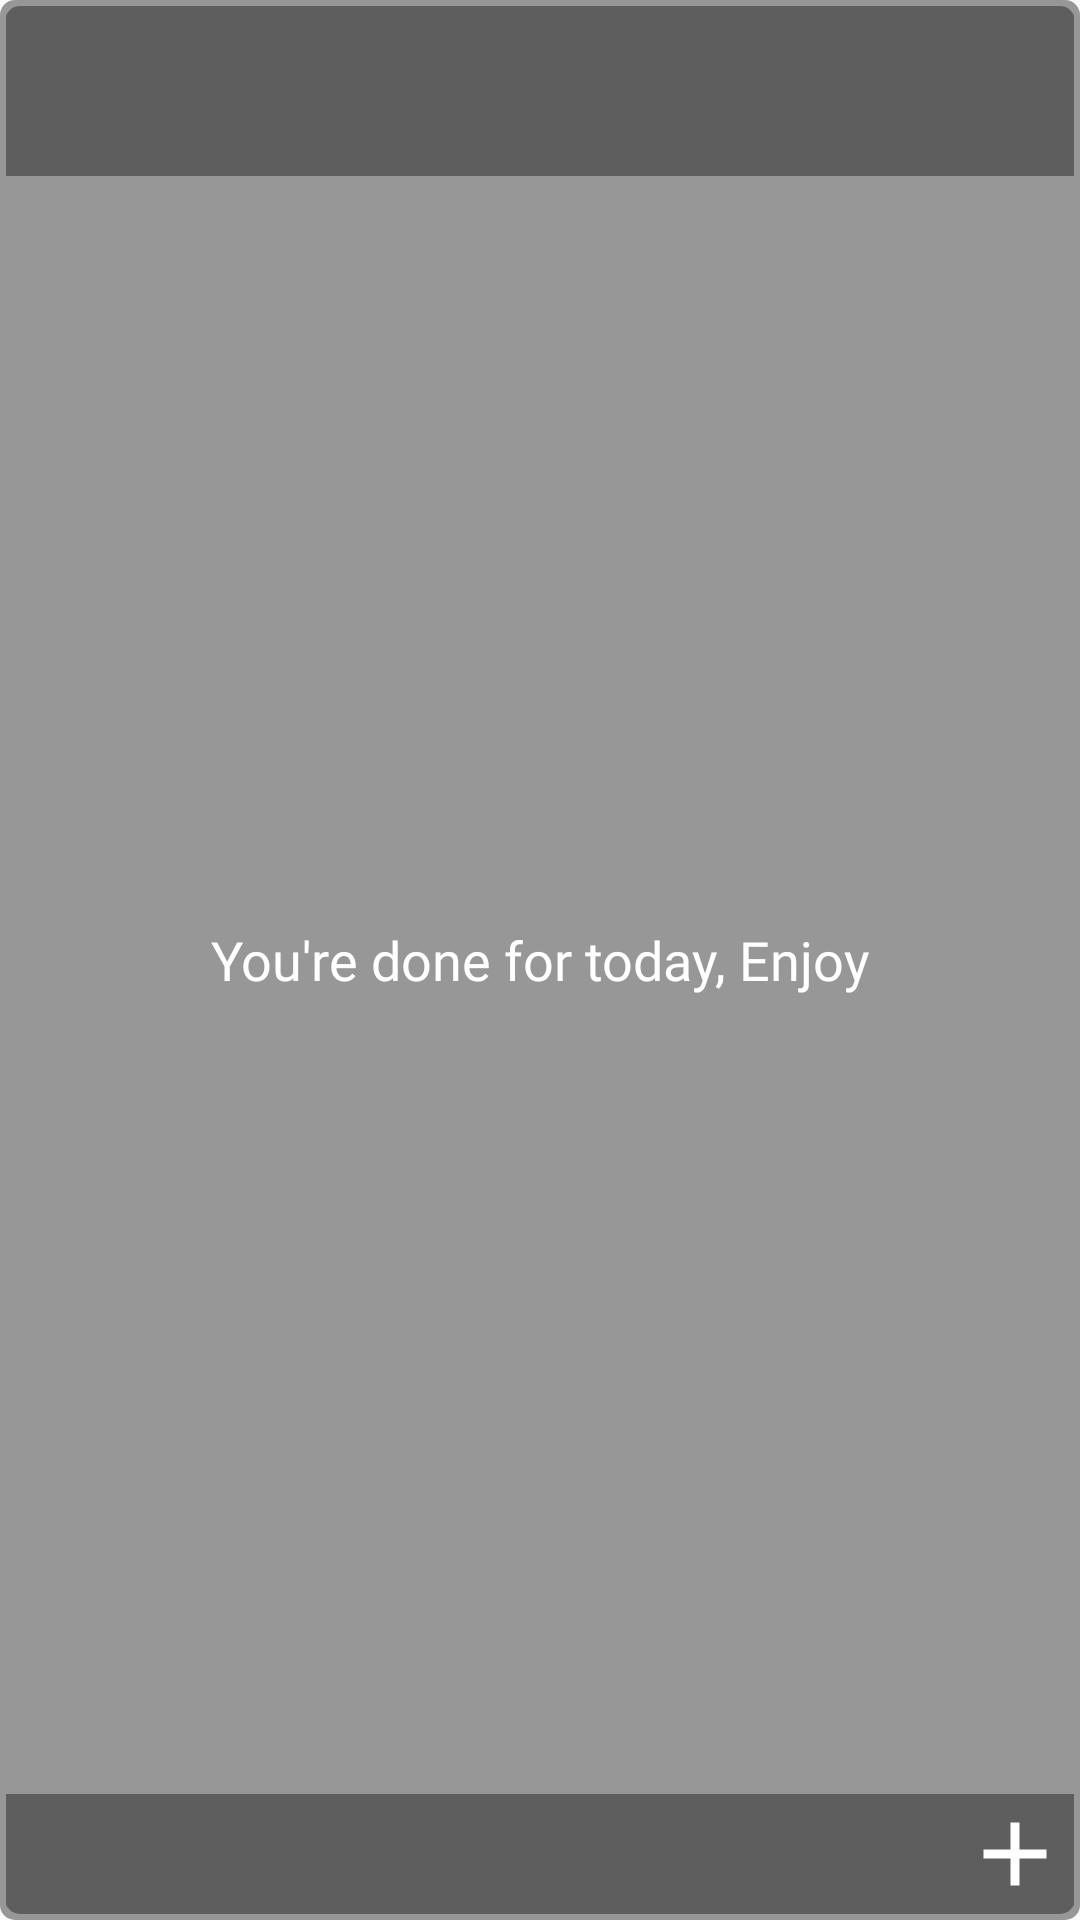

Point at icon controls on the screen. Image size 1080 × 1920, points as (x=x, y=y).
add: (x=1015, y=1854)
